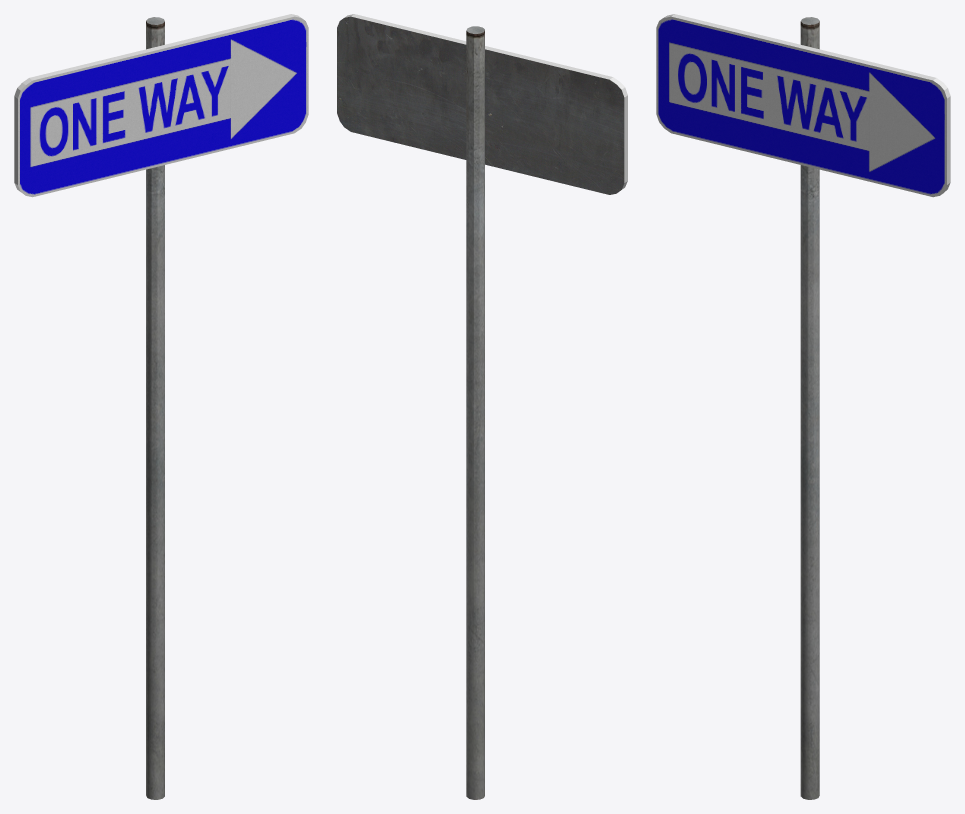
File: OneWay.FBX
3 renders of one model, left to right at view 1: azimuth 30°, elevation 25°; view 2: azimuth 150°, elevation 25°; view 3: azimuth 330°, elevation 25°, orthographic.
Parts seen in each view (by area): view 1: Line01; view 2: Line01; view 3: Line01.
Boxes of the visible parts, <box> form: Line01: <box>14,14,308,799</box>; Line01: <box>337,14,627,799</box>; Line01: <box>656,14,950,799</box>.
Bounding box in the file's own units: 39.09 × 99.54 × 2.95.
Materials: 1 (1 with a texture image).
